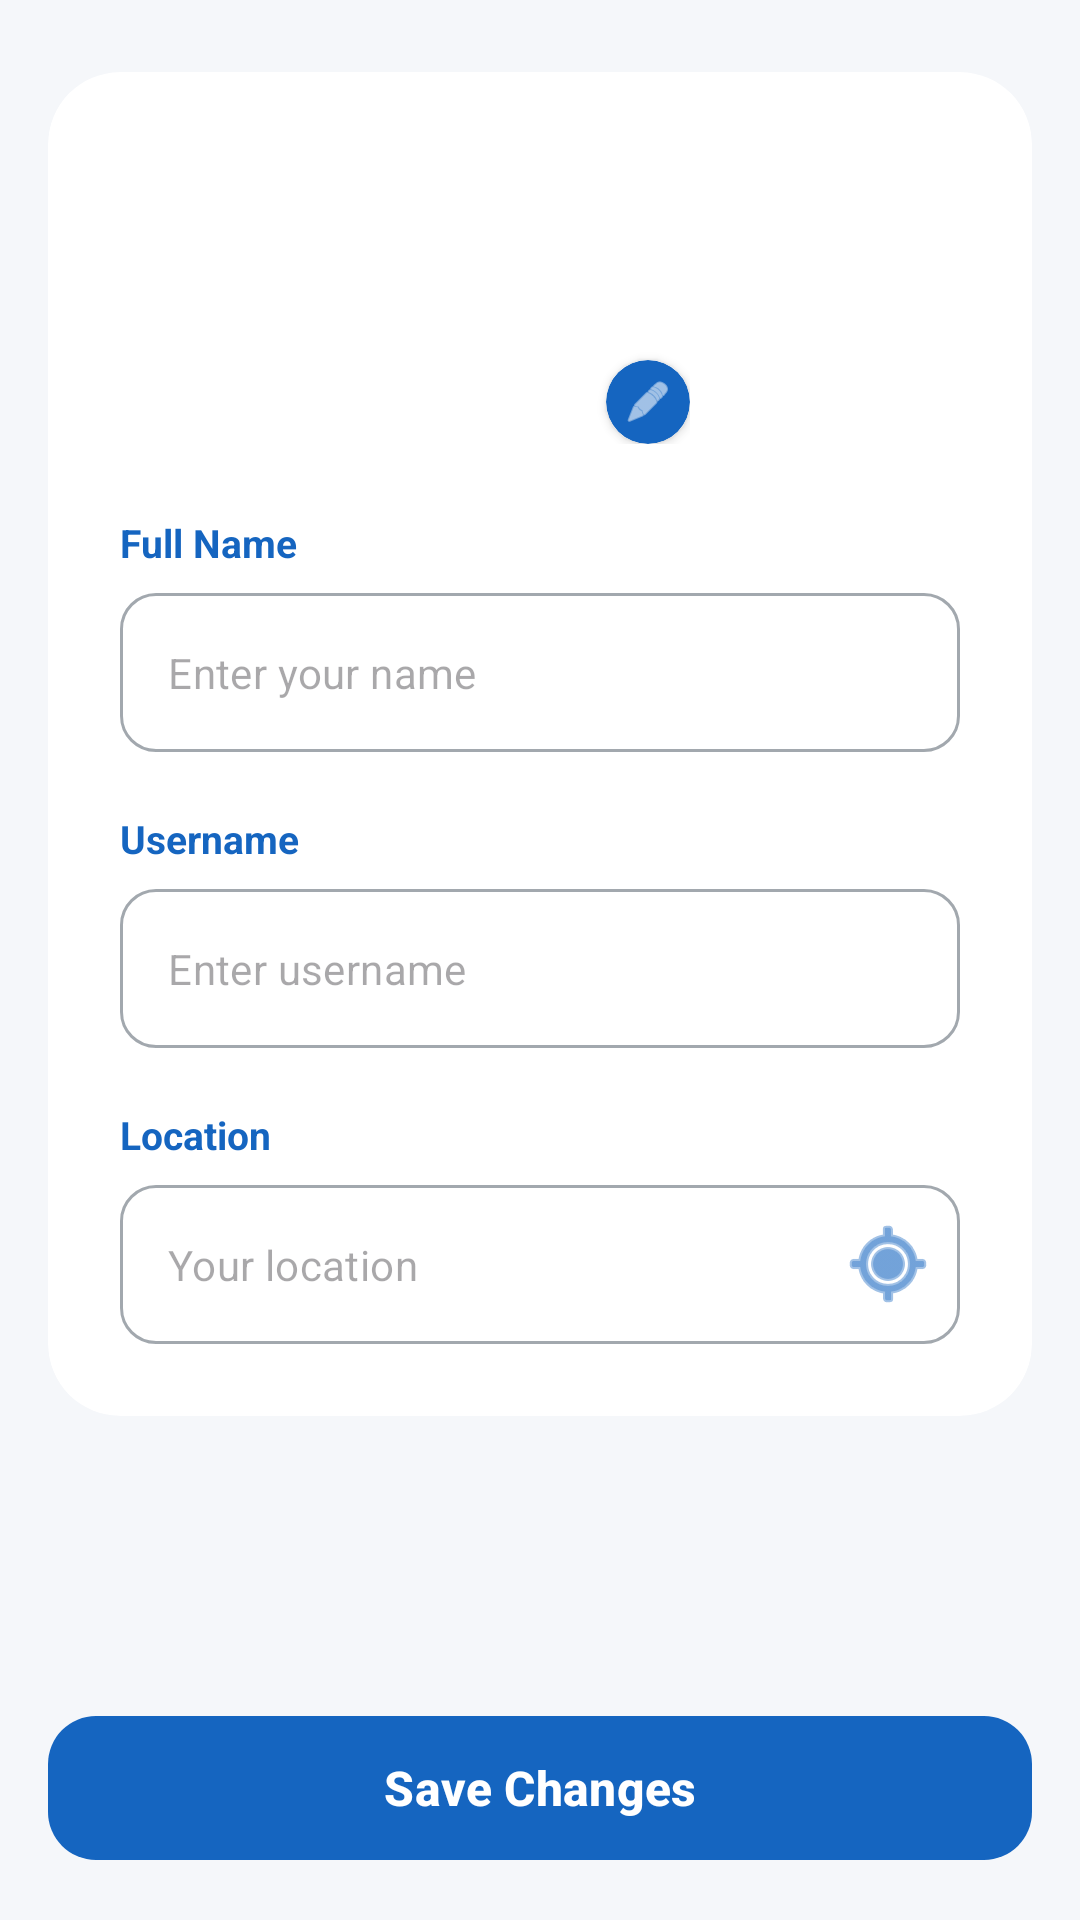

Locate icon controls on the screen. Image size 1080w x 1920h, boxes as (x1,y1,x2,y2).
Change Photo: (627,381,668,422)
